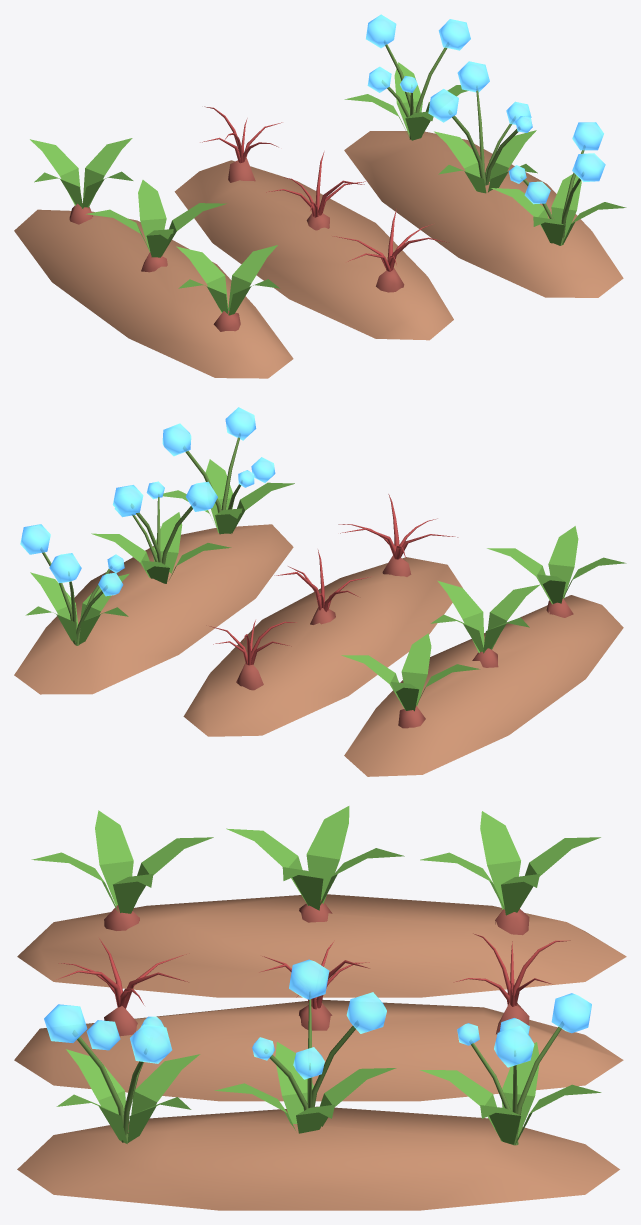
The picture shows the model from 3 angles, top to bottom: view 1: azimuth 30°, elevation 25°; view 2: azimuth 150°, elevation 25°; view 3: azimuth 270°, elevation 25°; orthographic projection. The views are drawn at different scales.
Visible parts, largest first — view 1: GeoSphere023_Material #12_0, GeoSphere022_Material #12_0, GeoSphere024_Material #12_0, Box005_Material #7_0, Box004_Material #7_0, Box012_Material #7_0, Box009_Material #7_0, Box002_Material #7_0, Box023_Material #7_0, Box018_Material #7_0, Box020_Material #7_0, GeoSphere010_Material #10_0 (+11 smaller); view 2: GeoSphere023_Material #12_0, GeoSphere022_Material #12_0, GeoSphere024_Material #12_0, Box010_Material #7_0, Box001_Material #7_0, Box008_Material #7_0, Box006_Material #7_0, Box017_Material #7_0, Box015_Material #7_0, Box022_Material #7_0, GeoSphere010_Material #10_0, GeoSphere016_Material #10_0 (+10 smaller); view 3: GeoSphere024_Material #12_0, GeoSphere022_Material #12_0, GeoSphere023_Material #12_0, Box007_Material #7_0, Box003_Material #7_0, Box011_Material #7_0, Box021_Material #7_0, Box019_Material #7_0, Box024_Material #7_0, Box016_Material #7_0, GeoSphere018_Material #10_0, GeoSphere020_Material #10_0 (+29 smaller).
Boxes of the visible parts, box(x1,y1,x2,y2) form: GeoSphere023_Material #12_0: box(174, 160, 453, 340); GeoSphere022_Material #12_0: box(14, 209, 293, 378); GeoSphere024_Material #12_0: box(344, 131, 623, 297); Box005_Material #7_0: box(138, 180, 166, 251); Box004_Material #7_0: box(83, 138, 132, 207); Box012_Material #7_0: box(228, 245, 277, 310); Box009_Material #7_0: box(176, 246, 228, 312); Box002_Material #7_0: box(30, 139, 80, 205); Box023_Material #7_0: box(551, 174, 581, 238); Box018_Material #7_0: box(434, 131, 480, 190); Box020_Material #7_0: box(489, 130, 536, 181); GeoSphere010_Material #10_0: box(438, 19, 470, 50); GeoSphere023_Material #12_0: box(183, 557, 462, 736); GeoSphere022_Material #12_0: box(344, 595, 623, 776); GeoSphere024_Material #12_0: box(14, 524, 293, 694); Box010_Material #7_0: box(548, 526, 578, 598); Box001_Material #7_0: box(401, 633, 431, 706); Box008_Material #7_0: box(437, 580, 484, 652); Box006_Material #7_0: box(487, 584, 539, 649); Box017_Material #7_0: box(153, 512, 182, 573); Box015_Material #7_0: box(30, 572, 77, 628); Box022_Material #7_0: box(205, 459, 232, 532); GeoSphere010_Material #10_0: box(20, 524, 50, 554); GeoSphere016_Material #10_0: box(112, 485, 143, 515); GeoSphere024_Material #12_0: box(17, 1106, 619, 1210); GeoSphere022_Material #12_0: box(17, 894, 626, 997); GeoSphere023_Material #12_0: box(14, 999, 623, 1101); Box007_Material #7_0: box(306, 806, 349, 903); Box003_Material #7_0: box(480, 811, 520, 909); Box011_Material #7_0: box(95, 810, 133, 906); Box021_Material #7_0: box(131, 1054, 200, 1135); Box019_Material #7_0: box(275, 1042, 313, 1123); Box024_Material #7_0: box(66, 1049, 128, 1131); Box016_Material #7_0: box(502, 1042, 539, 1137); GeoSphere018_Material #10_0: box(130, 1024, 172, 1063); GeoSphere020_Material #10_0: box(44, 1004, 87, 1042).
Size of the model in its own units: 86.03 by 24.63 by 75.59.
